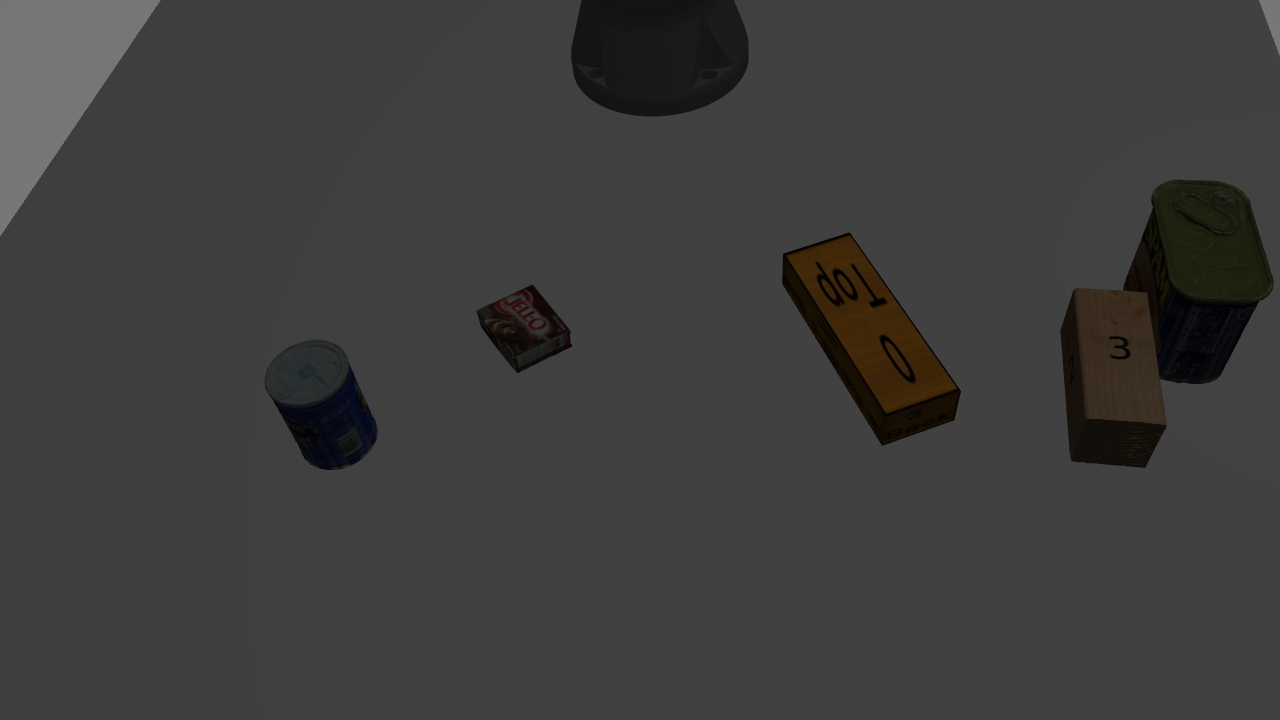jenga: (778, 229, 970, 447)
master_chef_can: (266, 333, 392, 477)
potted_meat_can: (1132, 176, 1271, 392)
pudding_box: (480, 283, 576, 368)
wood_block: (1052, 281, 1158, 470)
